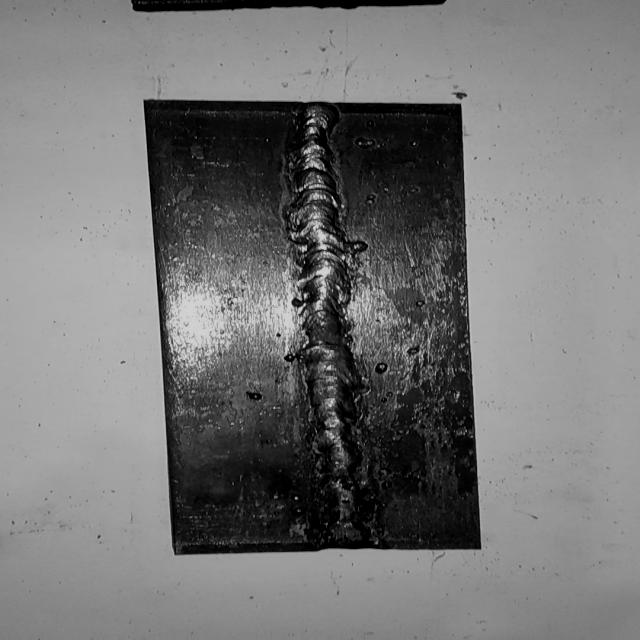Good Weld: (285, 103, 372, 547)
